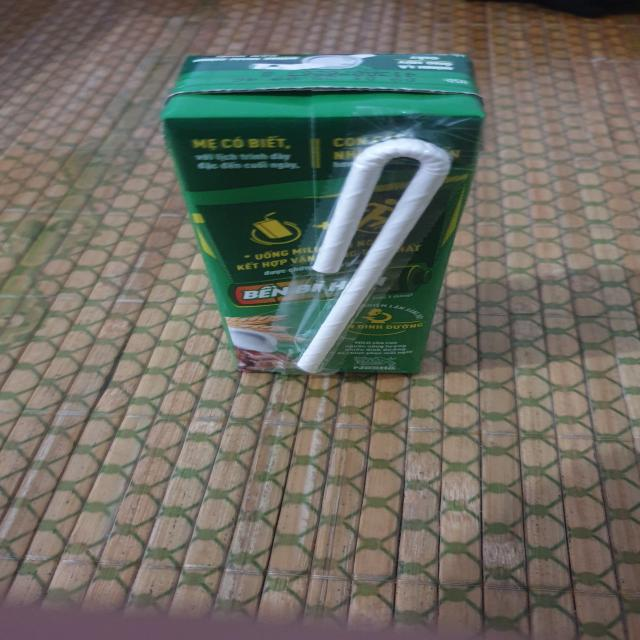Milo: (173, 39, 484, 380)
